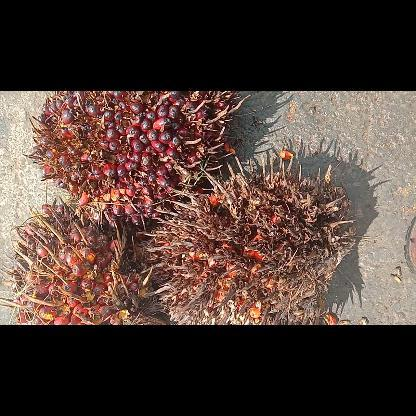TBS masak: (23, 90, 247, 238), (0, 196, 171, 324)
Terlalu masak: (134, 154, 356, 324)
